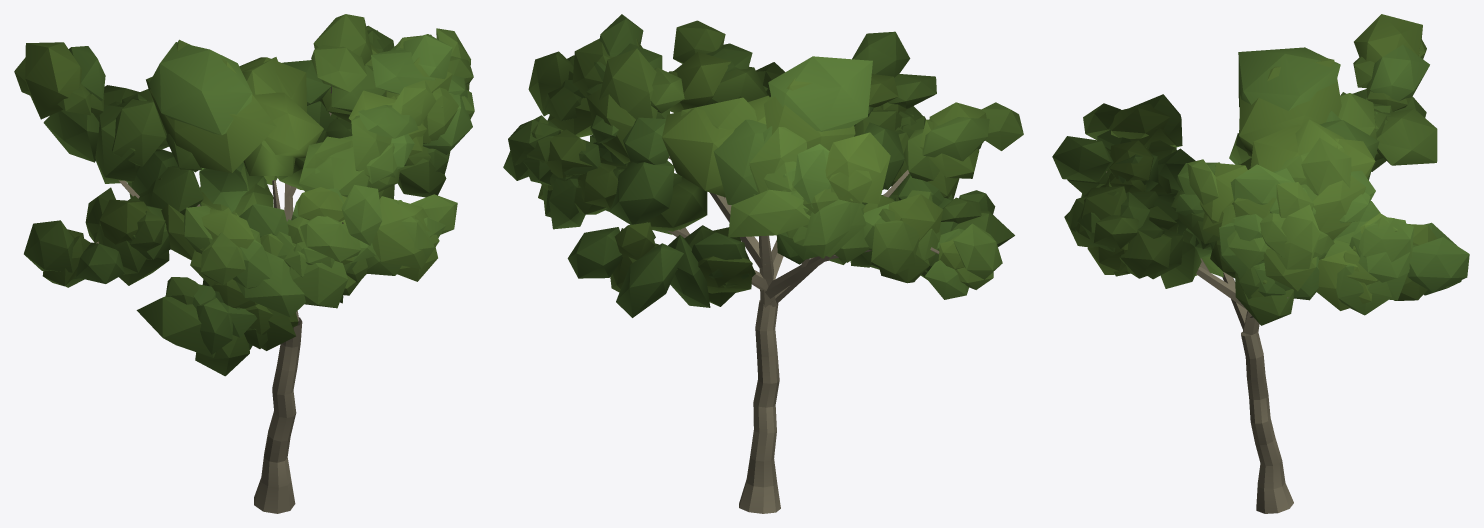
Rendered from tree_plane.glb.
3 views of the same model, side by side, from view 1: azimuth 30°, elevation 25°; view 2: azimuth 150°, elevation 25°; view 3: azimuth 270°, elevation 25° (orthographic). The views are drawn at different scales.
Visible parts, largest first — view 1: tree_plane; view 2: tree_plane; view 3: tree_plane.
Part boxes in pixels (box(x1,y1,x2,y2)): tree_plane: box(14, 14, 474, 513); tree_plane: box(503, 14, 1023, 513); tree_plane: box(1052, 14, 1469, 513).
Bounding box in the file's own units: 8.77 × 8.72 × 7.71.
